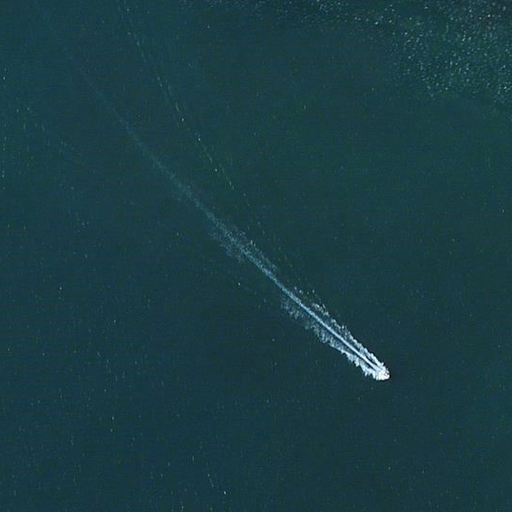ship: (367, 361, 391, 384)
